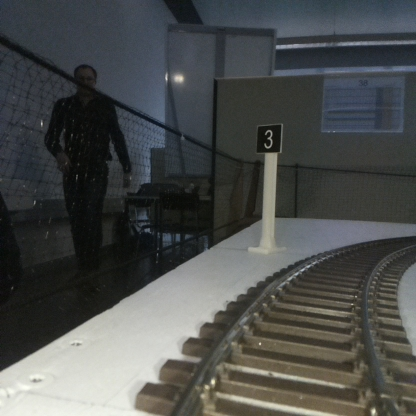black-info-3: (257, 125, 281, 251)
